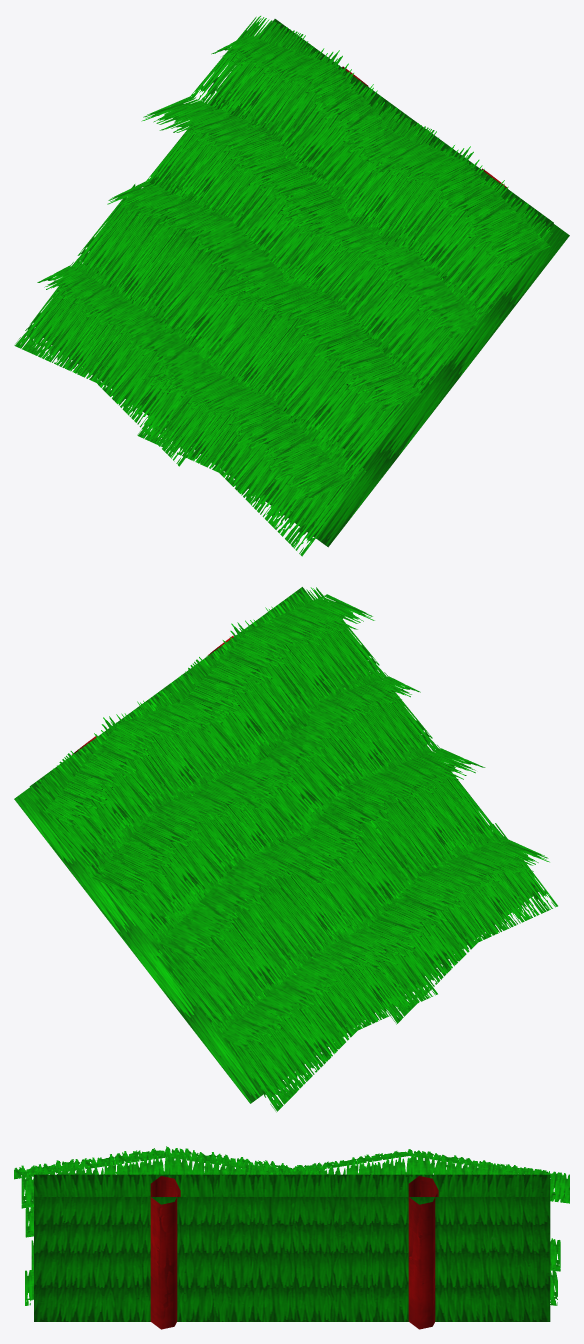
Rendered from RoofCenter01.fbx.
3 renders of one model, top to bottom at view 1: azimuth 30°, elevation 25°; view 2: azimuth 150°, elevation 25°; view 3: azimuth 270°, elevation 25°, orthographic. The views are drawn at different scales.
Parts seen in each view (by area): view 1: RoofCenter01_LOD0; view 2: RoofCenter01_LOD0; view 3: RoofCenter01_LOD0.
Boxes of the visible parts, left/top/right/bottom form: RoofCenter01_LOD0: left=14, top=16, right=569, bottom=556; RoofCenter01_LOD0: left=14, top=587, right=557, bottom=1112; RoofCenter01_LOD0: left=14, top=1146, right=569, bottom=1329.
Size of what is drawn, in the model's own units: 1.22 by 1.17 by 2.15.
